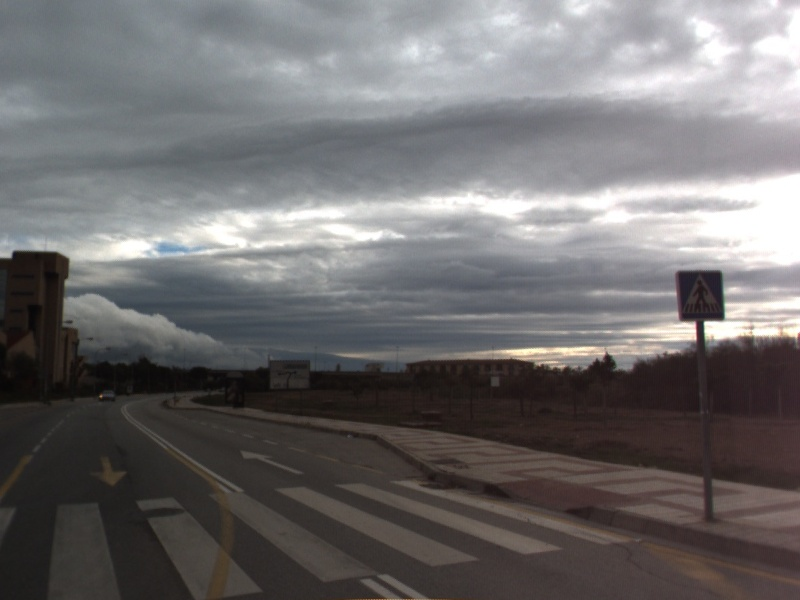STRAIGHT: (238, 448, 306, 476)
